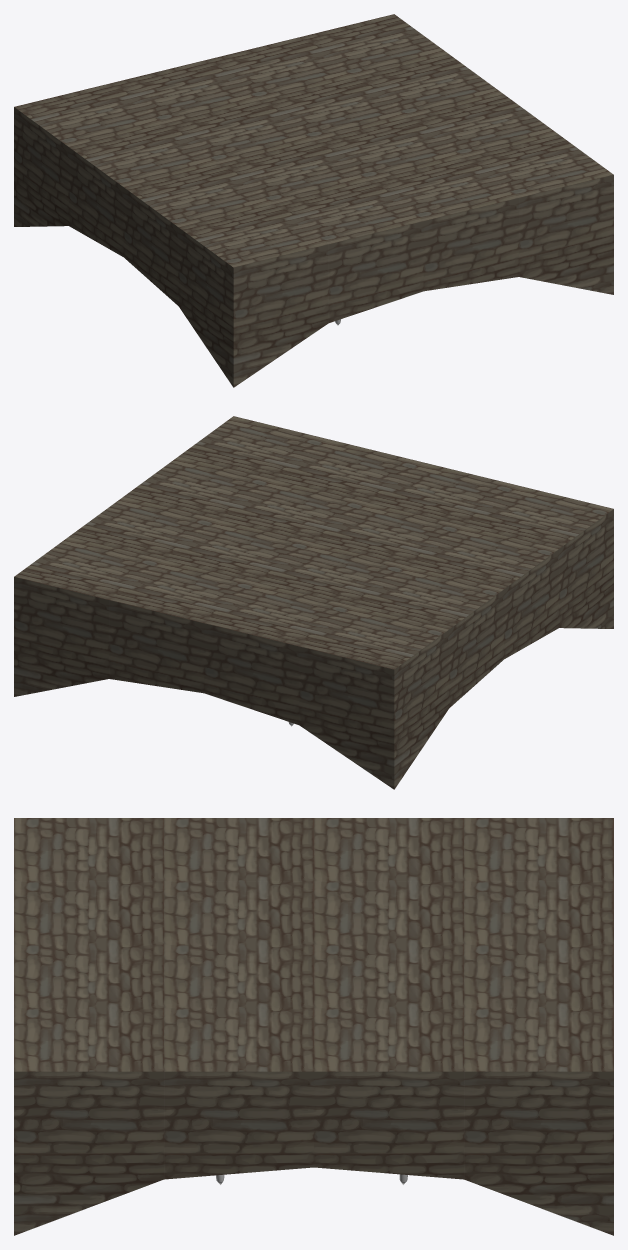
Rendered from WR_Top_Cross.FBX.
3 views of the same model, one above another, from view 1: azimuth 30°, elevation 25°; view 2: azimuth 150°, elevation 25°; view 3: azimuth 270°, elevation 25° (orthographic). The views are drawn at different scales.
Parts seen in each view (by area): view 1: top; view 2: top; view 3: top.
Part boxes in pixels (<box>): top: <box>14,14,613,387</box>; top: <box>14,416,613,789</box>; top: <box>14,818,613,1235</box>.
Size of the model in its own units: 25.4 by 8.77 by 25.4.
